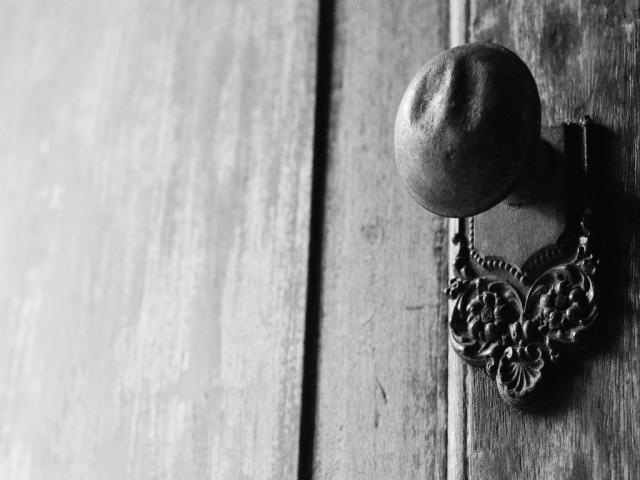Door-handle: (387, 38, 611, 421)
